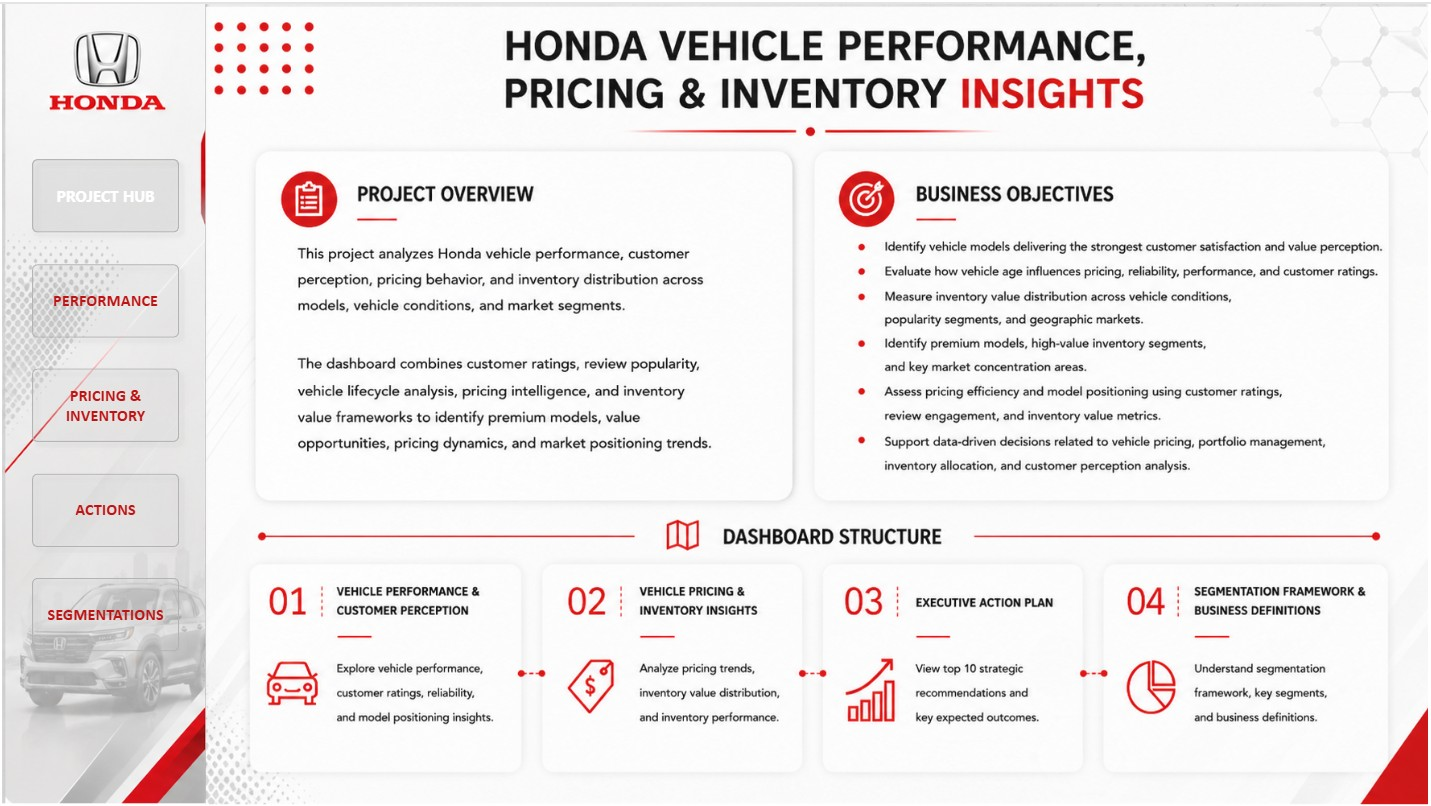

The page's visual inventory and layout, read from the dashboard file:
{"tool":"powerbi","page":{"name":"PROJECT HUB","canvas":[1280,720],"ordinal":0},"visuals":[{"type":"image","box":[182.5,0,1097.8,720.4],"z":0},{"type":"pageNavigator","box":[17.8,130.4,150.9,462.4],"z":1000}]}

Visuals, with their boxes in screenshot pixels (x1, y1, x2, y2), scaled from the page's 1280x720 canvas onto the 1431x806 screenshot:
image: [left=204, top=0, right=1430, bottom=805]
pageNavigator: [left=20, top=146, right=189, bottom=664]
